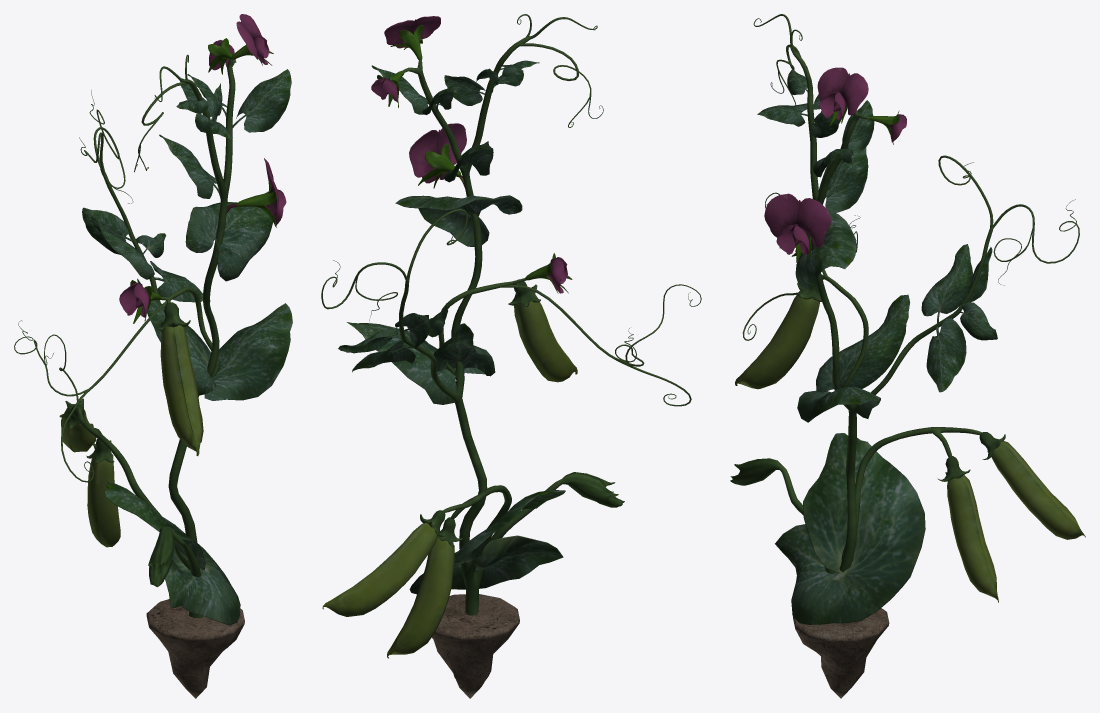
File: Red_Small_Pea_Plant_Green_Pod.gltf
The picture shows the model from 3 angles, left to right: view 1: azimuth 30°, elevation 25°; view 2: azimuth 150°, elevation 25°; view 3: azimuth 270°, elevation 25°; orthographic projection. The views are drawn at different scales.
Parts seen in each view (by area): view 1: _polySurface10, _Soil_Root, _Pod_Yellow_Main, _Flower_03, Purple_Flower_Single, _Flower_04, _Flower_01; view 2: _polySurface10, _Soil_Root, _Pod_Yellow_Main, _Flower_03, Purple_Flower_Single, _Flower_04, _Flower_01; view 3: _polySurface10, _Soil_Root, _Pod_Yellow_Main, _Flower_03, Purple_Flower_Single.
Part boxes in pixels (box(x1,y1,x2,y2)): _polySurface10: box(14, 54, 292, 625); _Soil_Root: box(146, 599, 244, 698); _Pod_Yellow_Main: box(160, 325, 203, 455); _Flower_03: box(225, 158, 286, 227); Purple_Flower_Single: box(231, 14, 273, 65); _Flower_04: box(119, 280, 161, 323); _Flower_01: box(208, 38, 236, 74); _polySurface10: box(321, 14, 701, 658); _Soil_Root: box(432, 594, 519, 698); _Pod_Yellow_Main: box(514, 294, 577, 382); _Flower_03: box(409, 123, 466, 188); Purple_Flower_Single: box(384, 16, 440, 60); _Flower_04: box(525, 253, 572, 293); _Flower_01: box(371, 70, 404, 107); _polySurface10: box(730, 14, 1085, 624); _Soil_Root: box(793, 608, 889, 698); _Pod_Yellow_Main: box(735, 290, 819, 389); _Flower_03: box(764, 193, 831, 262); Purple_Flower_Single: box(817, 67, 868, 125).
Bounding box in the file's own units: 0.806 × 1.73 × 0.8522.
Materials: 5 (5 with a texture image).
